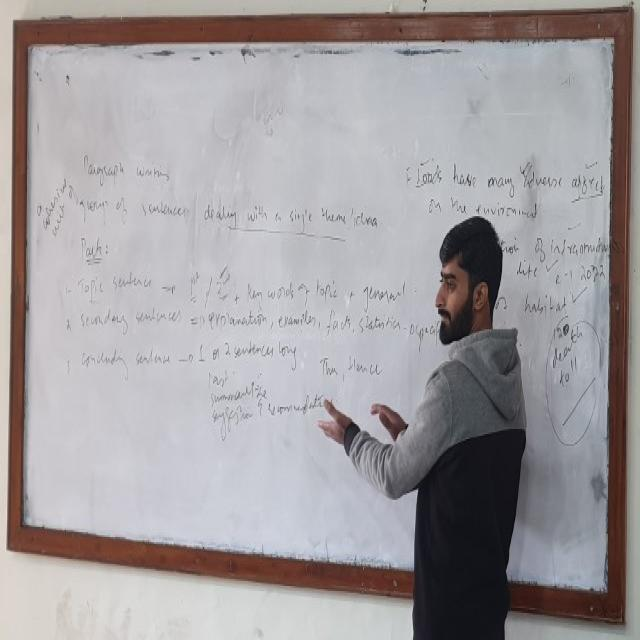Instructor: (406, 204, 526, 640)
White-board: (13, 29, 626, 613)
